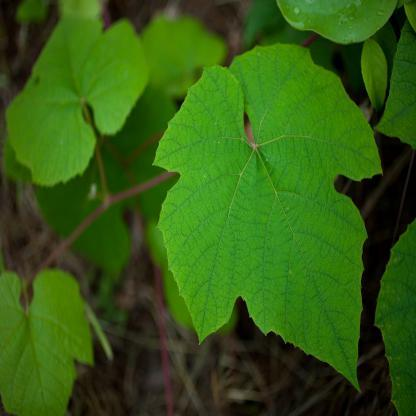grape leaf black rot: (148, 44, 376, 392), (0, 10, 146, 186), (0, 258, 93, 414)
